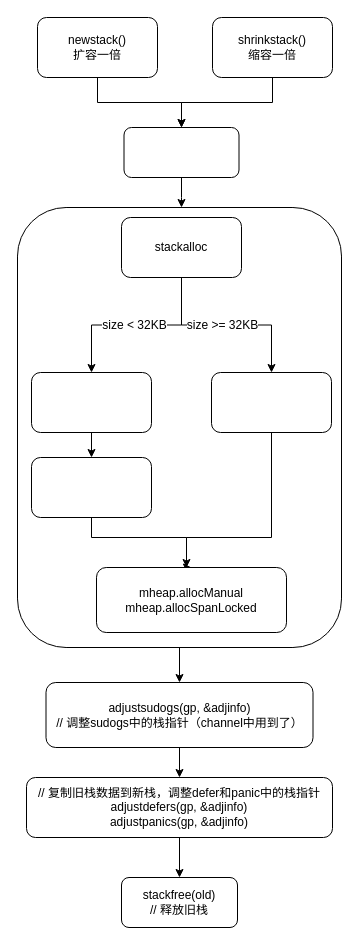
Some shapes in this 359 by 945 pixel diagram are drawn without their labels. The shapes that lost their labels are listed below. From the top down, each one's centre as x and y in pixels, then its label:
(181,152): copystack()
(91,402): c.stackcache
(271,402): stacklarge.free
(91,487): stackcacherefill stackcpoolalloc
